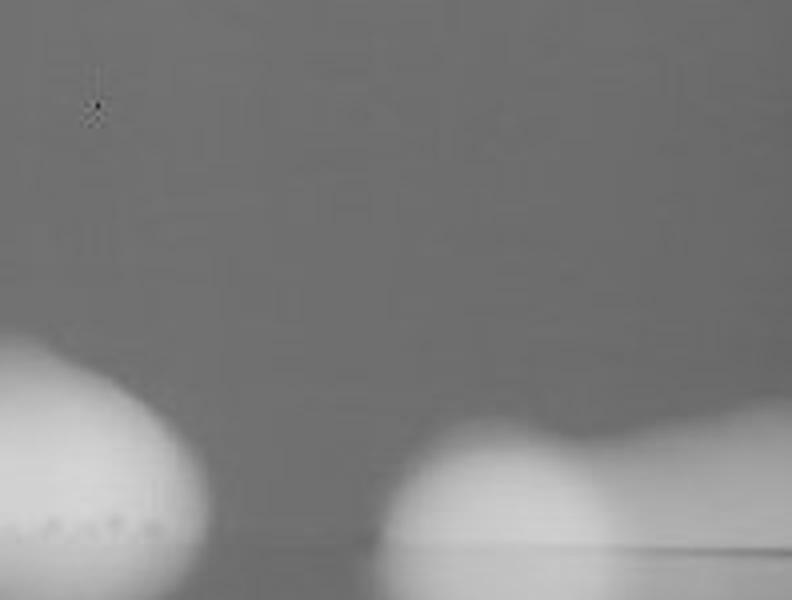defect: (135, 515, 169, 540), (42, 509, 65, 533), (102, 510, 125, 529), (90, 96, 105, 113)
